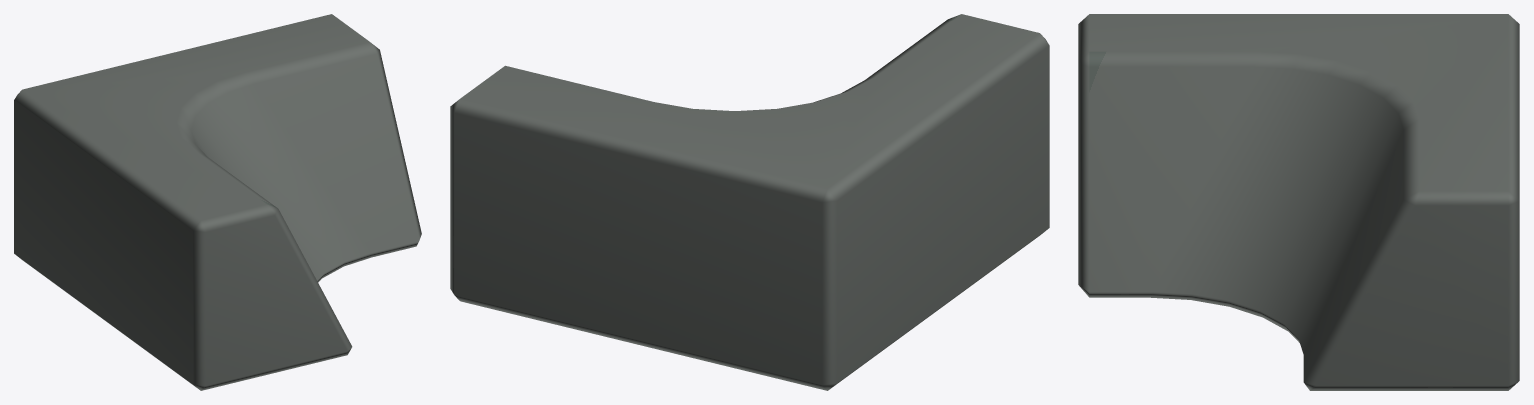
The model's file is Env_Wall_SpaceStation_InCorner_2x2.fbx.
3 views of the same model, side by side, from view 1: azimuth 30°, elevation 25°; view 2: azimuth 150°, elevation 25°; view 3: azimuth 270°, elevation 25° (orthographic). The views are drawn at different scales.
Visible parts, largest first — view 1: Wall_Corner_Inner; view 2: Wall_Corner_Inner; view 3: Wall_Corner_Inner.
Part boxes in pixels (x1,y1,x2,y2): Wall_Corner_Inner: (14,14,421,390); Wall_Corner_Inner: (450,14,1049,390); Wall_Corner_Inner: (1078,14,1519,390).
Bounding box in the file's own units: 200 × 100 × 200.
